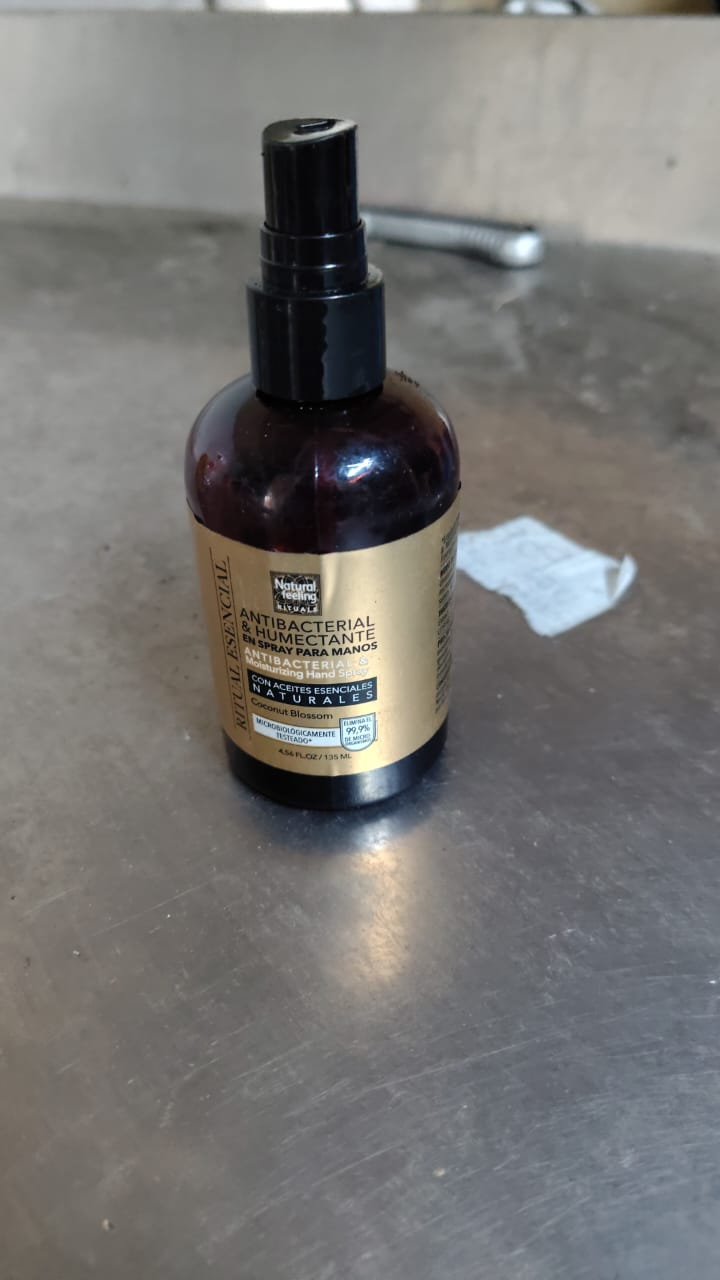Plastico: (186, 114, 459, 816)
